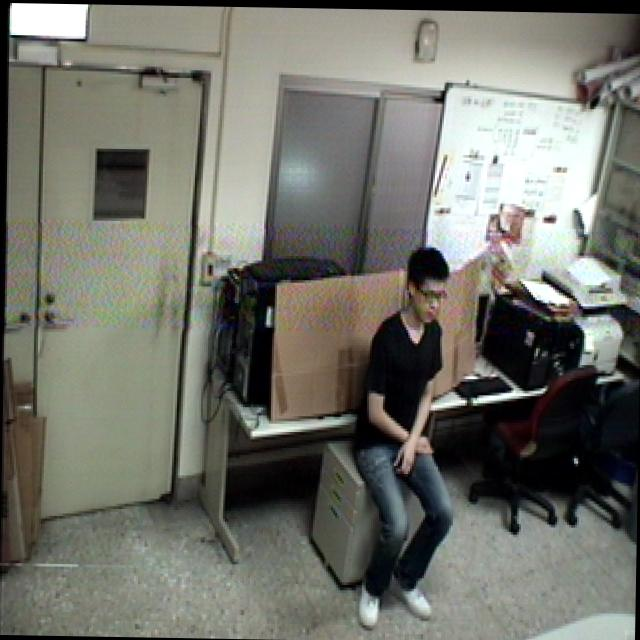sit: (344, 236, 458, 633)
